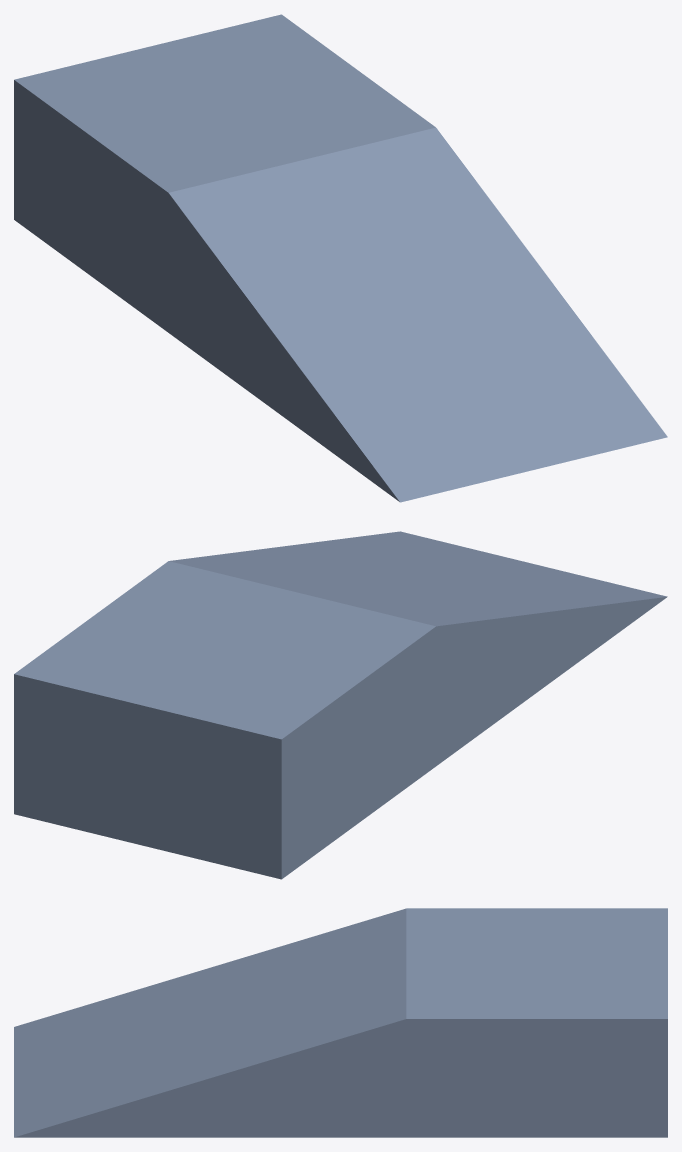
File: ramp.gltf
3 renders of one model, top to bottom at view 1: azimuth 30°, elevation 25°; view 2: azimuth 150°, elevation 25°; view 3: azimuth 270°, elevation 25°, orthographic. The views are drawn at different scales.
Visible parts, largest first — view 1: Ramp; view 2: Ramp; view 3: Ramp.
Part boxes in pixels (box(x1,y1,x2,y2)): Ramp: box(14, 14, 667, 502); Ramp: box(14, 531, 667, 879); Ramp: box(14, 908, 667, 1137).
Bounding box in the file's own units: 4 × 2 × 10.
